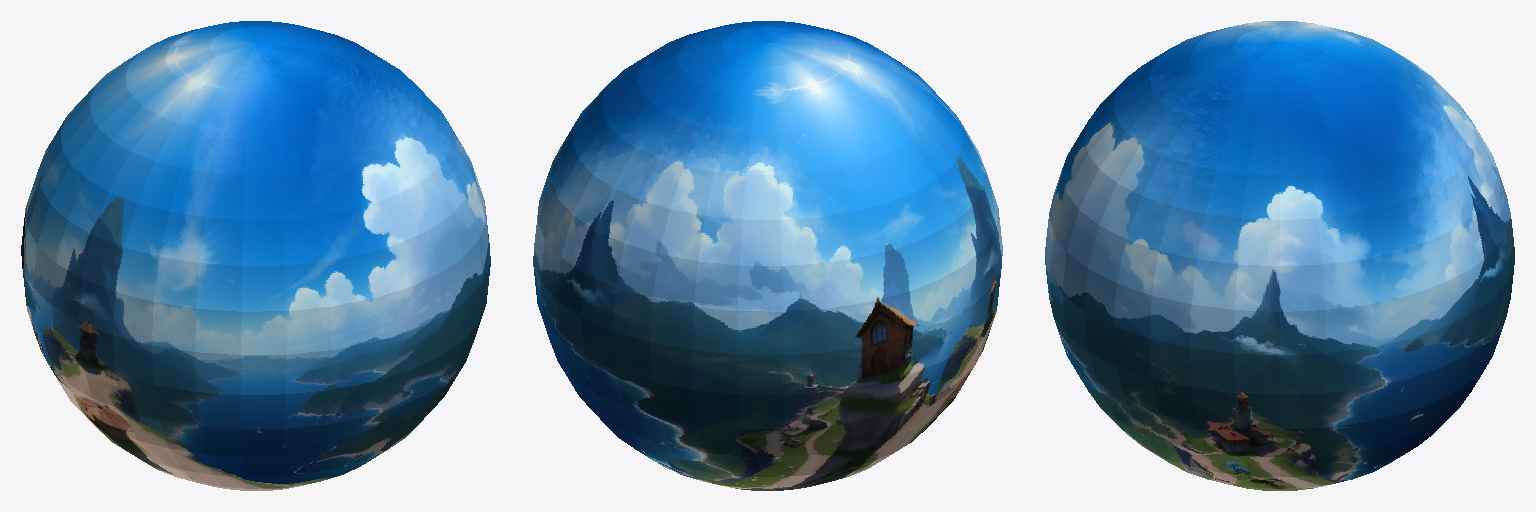
3 renders of one model, left to right at view 1: azimuth 30°, elevation 25°; view 2: azimuth 150°, elevation 25°; view 3: azimuth 270°, elevation 25°, orthographic.
Parts seen in each view (by area): view 1: 球; view 2: 球; view 3: 球.
Boxes of the visible parts, x1=… form: 球: x1=21, y1=21, x2=490, y2=490; 球: x1=533, y1=21, x2=1002, y2=490; 球: x1=1045, y1=21, x2=1514, y2=490.
Bounding box in the file's own units: 2 × 2 × 2.
Materials: 1 (1 with a texture image).